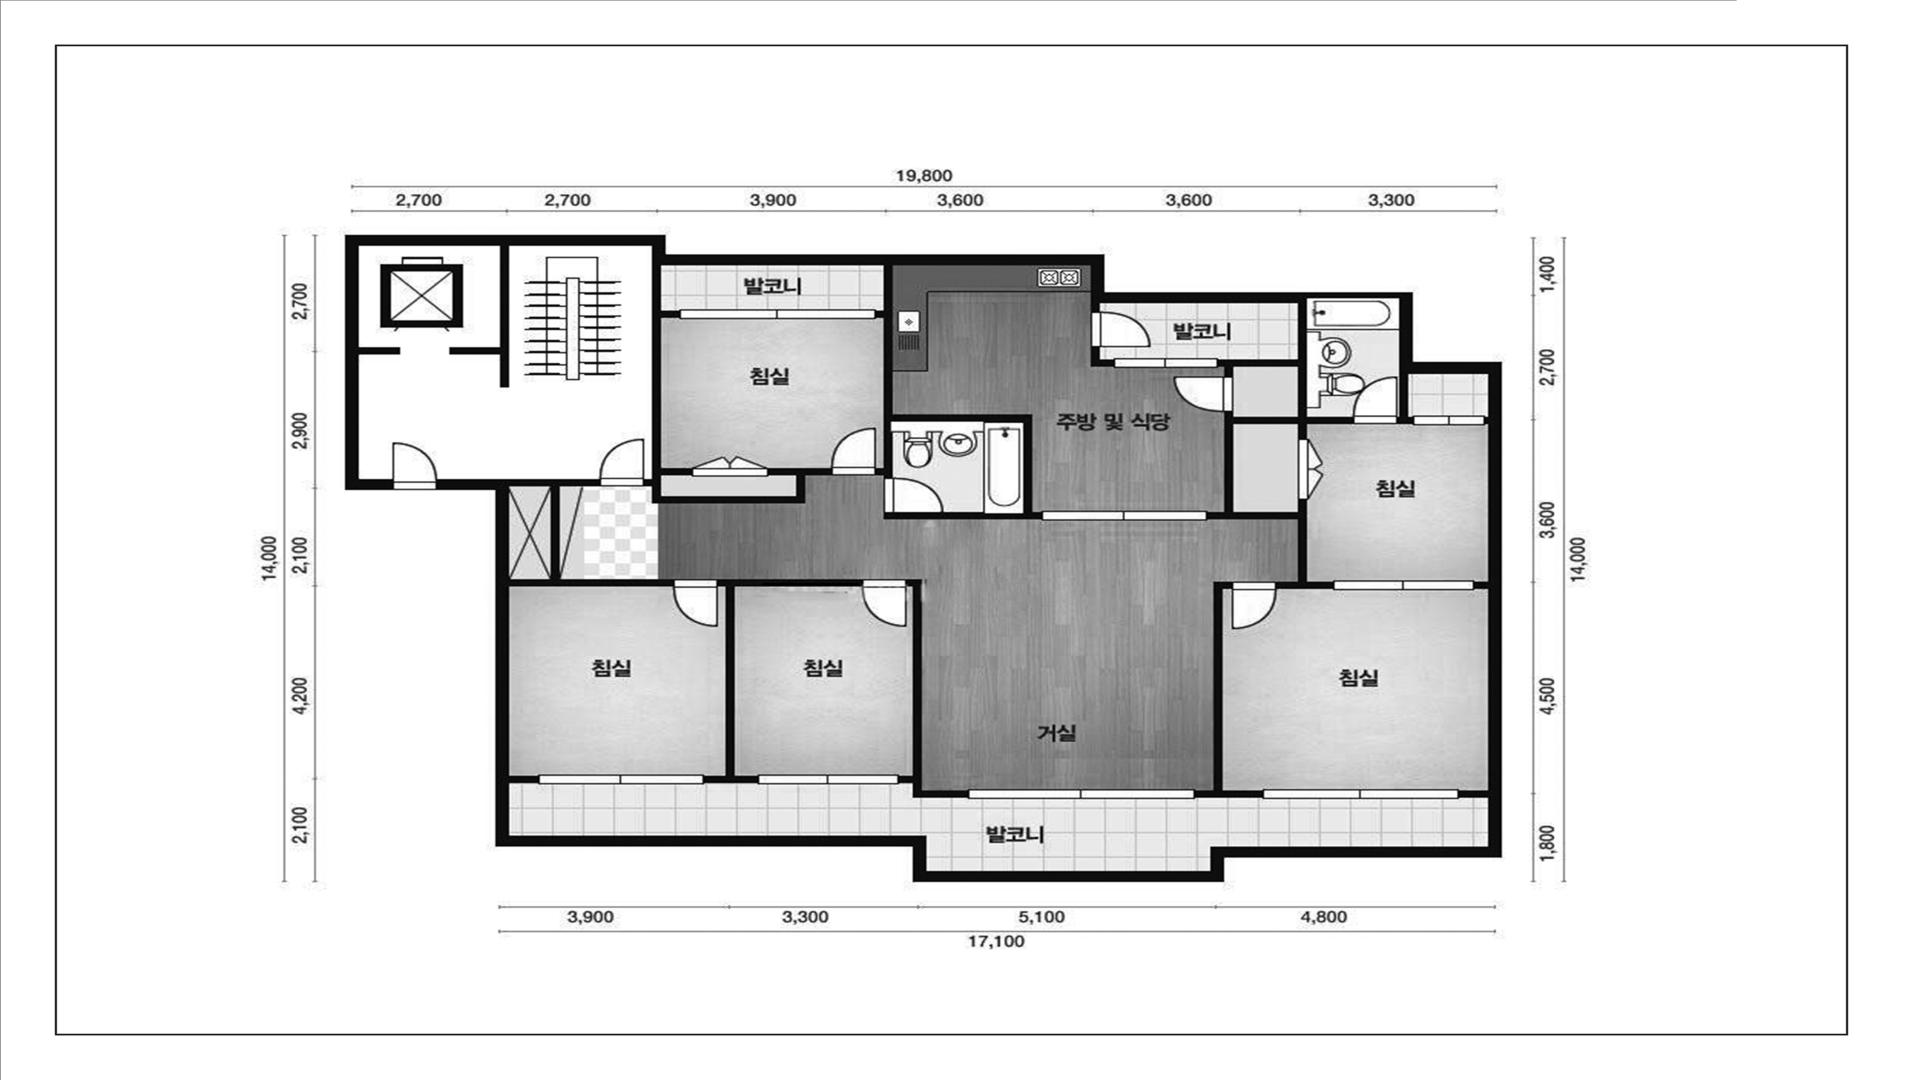background: (0, 0, 1920, 1080)
door: (392, 441, 438, 489), (673, 579, 718, 628), (1172, 376, 1233, 412), (831, 428, 877, 475), (1091, 311, 1151, 347), (1352, 376, 1397, 424), (863, 579, 908, 627), (1232, 582, 1277, 630), (884, 477, 943, 513), (599, 439, 644, 486), (690, 454, 769, 477), (1298, 438, 1323, 500)
wall: (344, 235, 1503, 882), (644, 265, 831, 504), (876, 265, 1042, 519), (1207, 303, 1353, 588), (704, 579, 863, 783), (509, 479, 673, 586), (900, 579, 968, 797), (1195, 582, 1262, 798), (450, 246, 509, 387), (1397, 374, 1414, 424), (1090, 347, 1113, 367), (358, 347, 400, 354), (508, 776, 538, 783), (1459, 791, 1488, 797), (1474, 582, 1488, 589), (1091, 302, 1099, 312), (1485, 417, 1489, 423)
window: (968, 789, 1195, 799), (679, 309, 876, 319), (1262, 789, 1459, 799), (537, 774, 704, 785), (1042, 511, 1208, 521), (1333, 580, 1474, 590), (758, 775, 900, 784), (1113, 358, 1218, 368), (1413, 415, 1485, 425)
